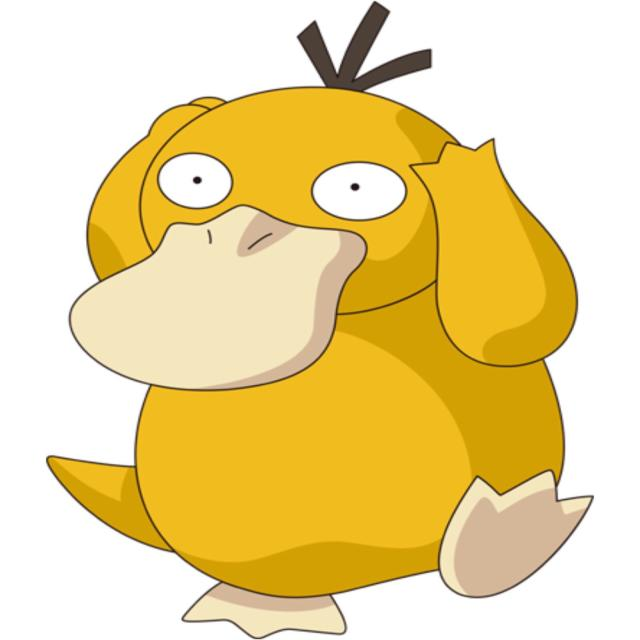Duck: (44, 26, 601, 638)
